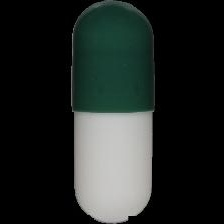54868-6019: (0, 0, 224, 224)
